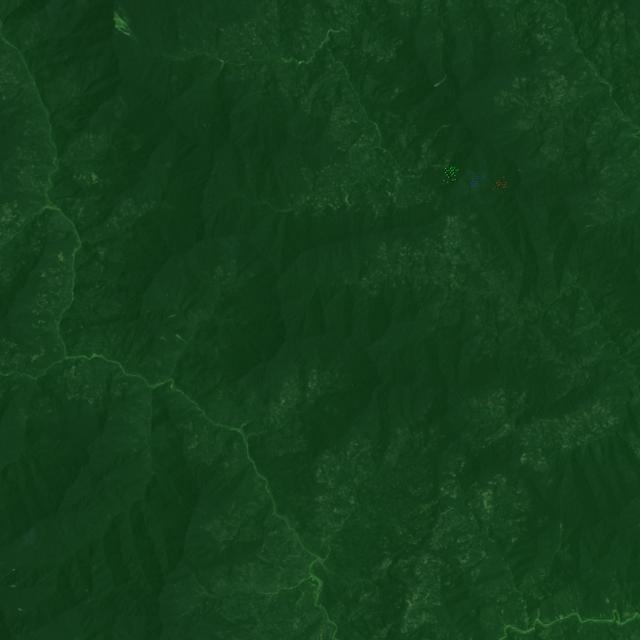landslides: (115, 12, 138, 42), (341, 186, 352, 206), (119, 7, 131, 24), (434, 74, 447, 88), (58, 252, 67, 265), (176, 334, 187, 344)
